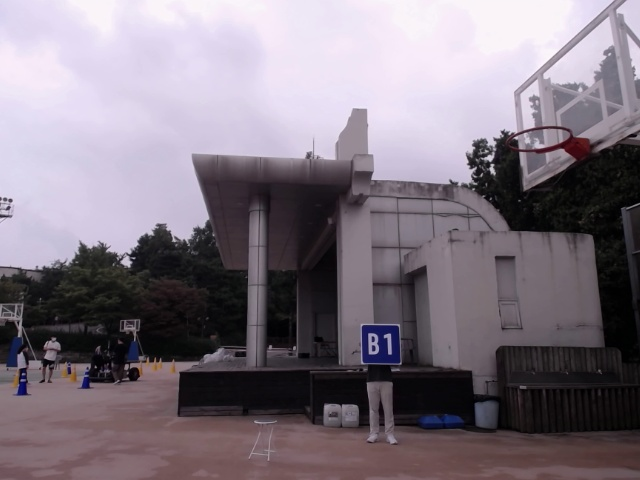delivery_b1: (361, 323, 402, 364)
